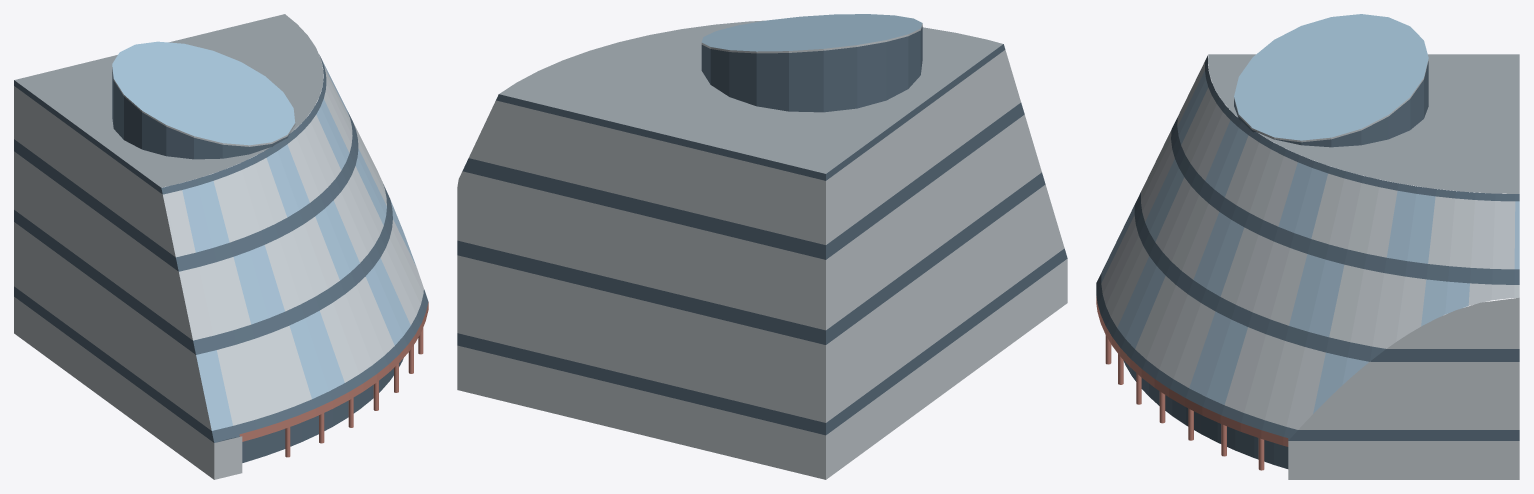
File: chi-thompson-center.glb
The picture shows the model from 3 angles, left to right: view 1: azimuth 30°, elevation 25°; view 2: azimuth 150°, elevation 25°; view 3: azimuth 270°, elevation 25°; orthographic projection. The views are drawn at different scales.
Parts seen in each view (by area): view 1: James R. Thompson Center; view 2: James R. Thompson Center; view 3: James R. Thompson Center.
Boxes of the visible parts, box(x1,y1,x2,y2) form: James R. Thompson Center: box(14, 14, 428, 479); James R. Thompson Center: box(457, 14, 1067, 479); James R. Thompson Center: box(1096, 14, 1519, 479).
Size of the model in its own units: 99.6 by 95.4 by 113.
